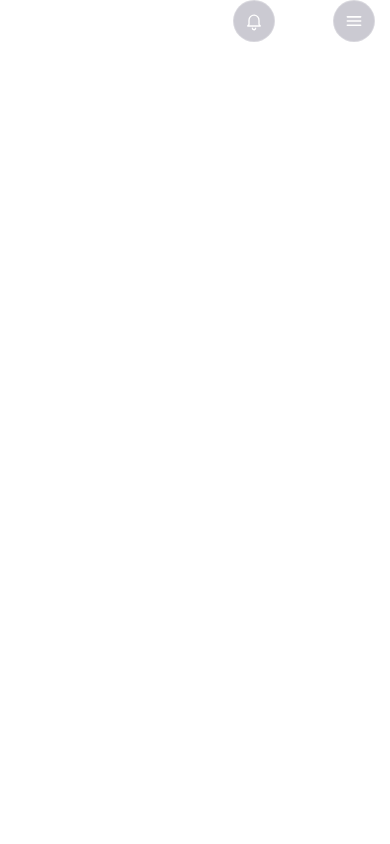
Phone menu › closes when a link is chosen
The width and height of the screenshot is (390, 844).
Click the button named "Open menu": coordinates (354, 21) [333,0,375,42]
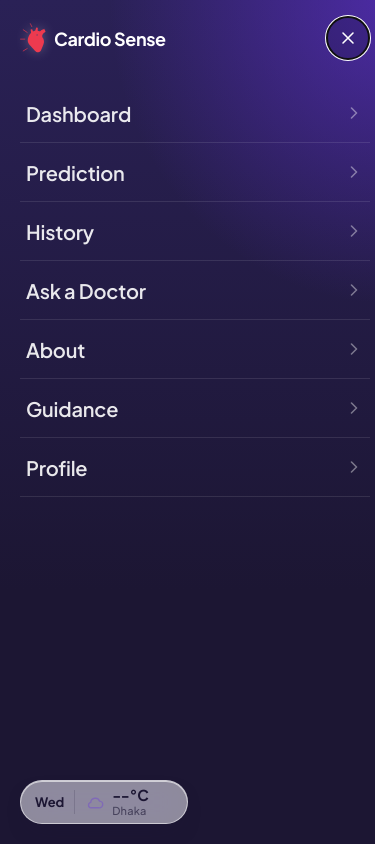
Click the link "About": coordinates (56, 349) [26,336,364,362]
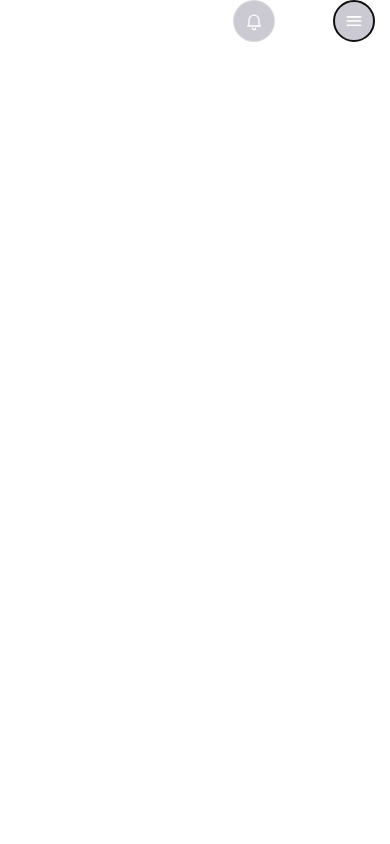
Result: the button "Menu" is gone
